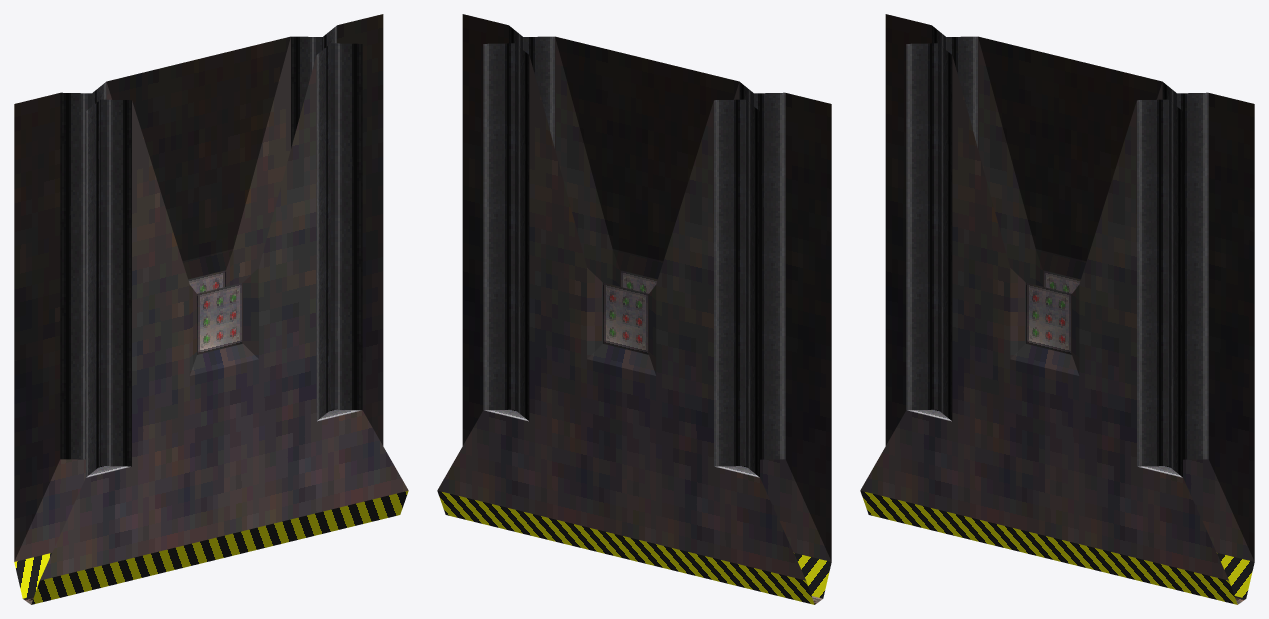
The model's file is primary_136.glb.
The picture shows the model from 3 angles, left to right: view 1: azimuth 30°, elevation 25°; view 2: azimuth 150°, elevation 25°; view 3: azimuth 330°, elevation 25°; orthographic projection.
Parts seen in each view (by area): view 1: Object; view 2: Object; view 3: Object.
Boxes of the visible parts, bbox=[...] form: Object: bbox=[14, 14, 408, 604]; Object: bbox=[437, 14, 831, 604]; Object: bbox=[860, 14, 1254, 604].
Size of the model in its own units: 2.65 by 3.36 by 0.3174.
7 materials, 7 textured.
